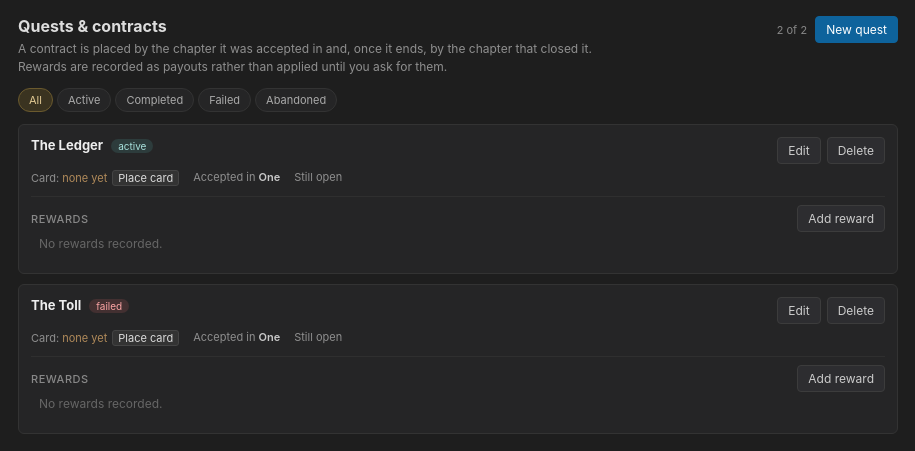
Test case: the status filter › narrows the list by the chosen status and counts what is left
Check: the heading "The Ledger" is shown, box [31,137,103,153]
Check: the heading "The Toll" is shown, box [31,297,81,313]
Click the button "Failed" at (225, 100), box [198,88,251,112]
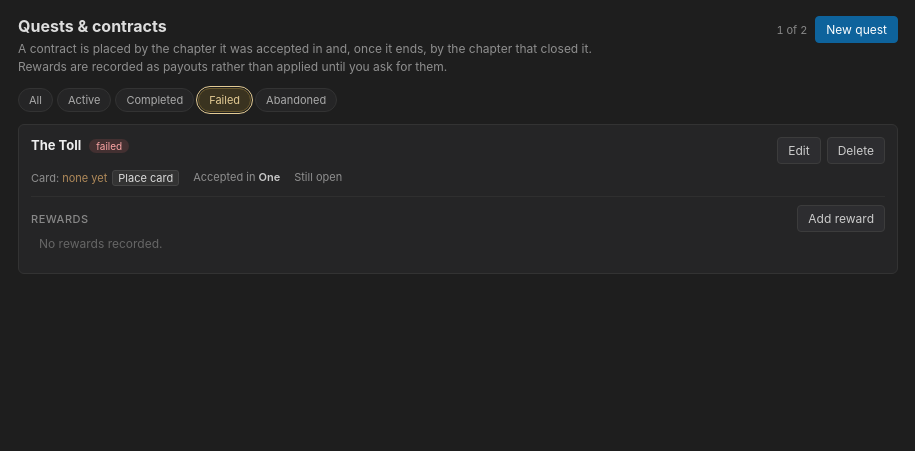
Check: the heading "The Toll" is shown, box [31,137,81,153]
Check: the heading "The Ledger" is gone
Check: the message reads "1 of 2", box [776,22,807,36]
Click the button "All" at (35, 100), box [18,88,53,112]
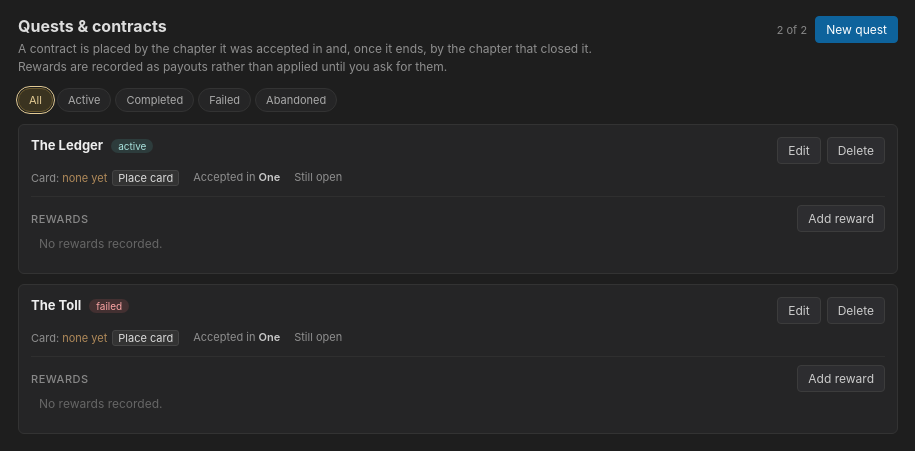
Check: the heading "The Ledger" is shown, box [31,137,103,153]
Check: the message reads "2 of 2", box [776,22,807,36]
